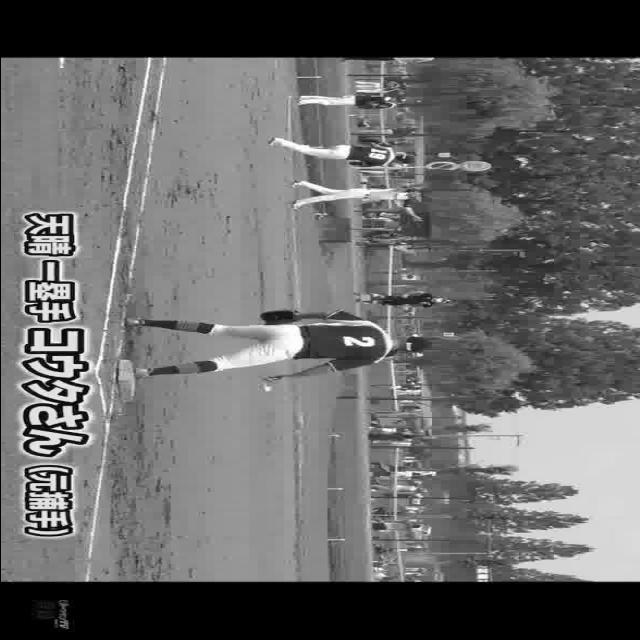base: (112, 360, 140, 402)
baseball_glove: (252, 309, 304, 325)
shoe: (134, 368, 158, 386), (122, 315, 148, 329), (267, 138, 284, 146)
